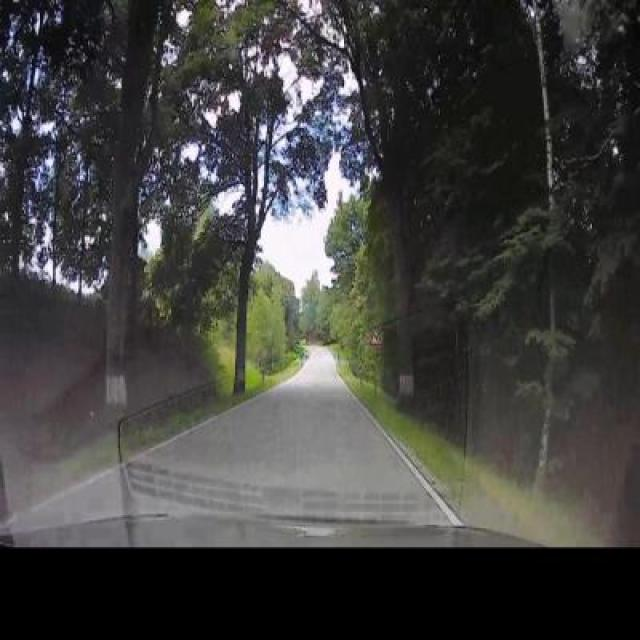clear-road: (160, 347, 406, 488)
